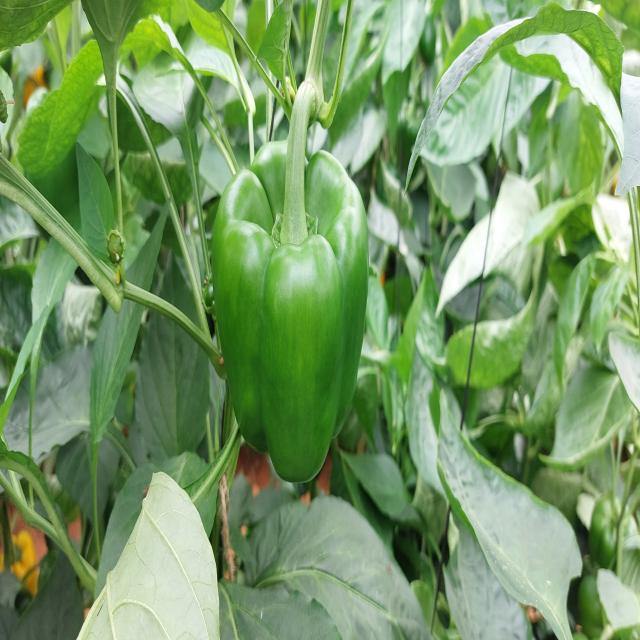Green--Not-ready-to-harvest: (208, 140, 373, 485)
